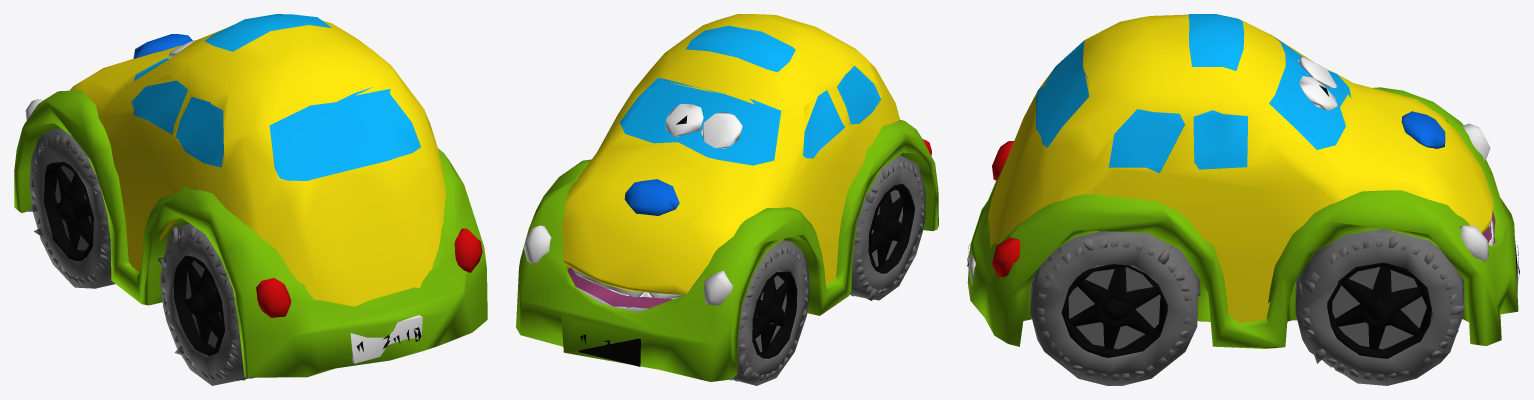
Rendered from toy_car2_LOD02.fbx.
The picture shows the model from 3 angles, left to right: view 1: azimuth 30°, elevation 25°; view 2: azimuth 150°, elevation 25°; view 3: azimuth 270°, elevation 25°; orthographic projection. The views are drawn at different scales.
Visible parts, largest first — view 1: toy_car2; view 2: toy_car2; view 3: toy_car2.
Boxes of the visible parts, x1,y1,x2,y2 form: toy_car2: (14,14,487,385); toy_car2: (516,14,938,385); toy_car2: (967,14,1519,385).
Bounding box in the file's own units: 26.41 × 29.14 × 48.27.
